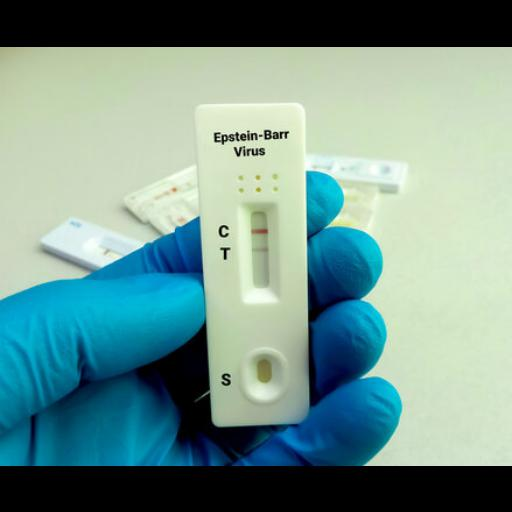Pos: (194, 101, 310, 427)
